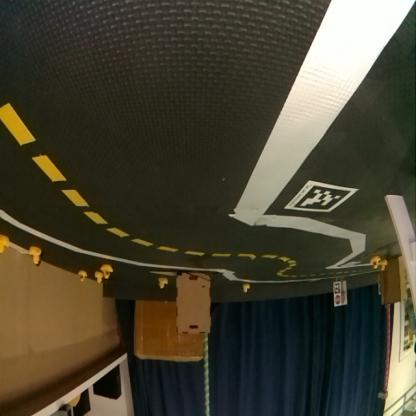Duckie: (28, 246, 40, 264), (0, 235, 9, 254), (100, 265, 112, 279), (370, 256, 379, 270), (158, 278, 167, 290), (94, 272, 102, 284), (379, 260, 386, 272), (78, 272, 86, 282), (242, 285, 249, 293)
QR code: (284, 181, 358, 213), (333, 284, 340, 294)
Stop sign: (334, 295, 340, 307)
